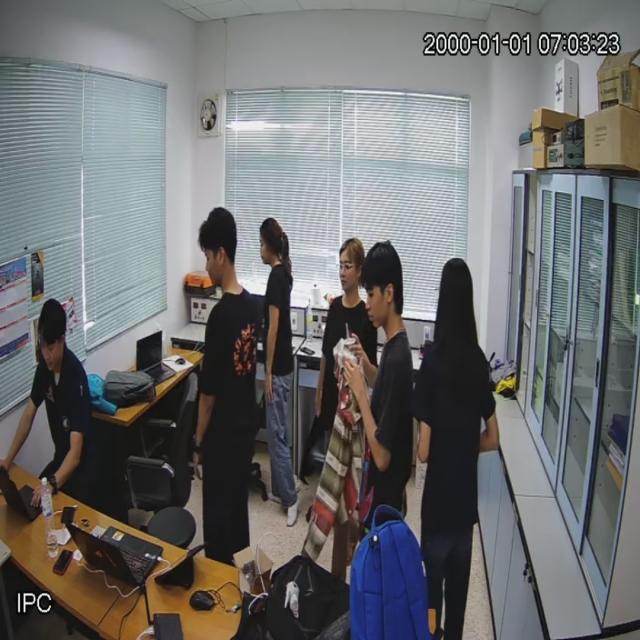normal: (419, 261, 498, 640), (195, 207, 252, 560), (350, 240, 412, 538), (316, 236, 369, 545), (15, 301, 96, 498), (262, 218, 300, 523)
